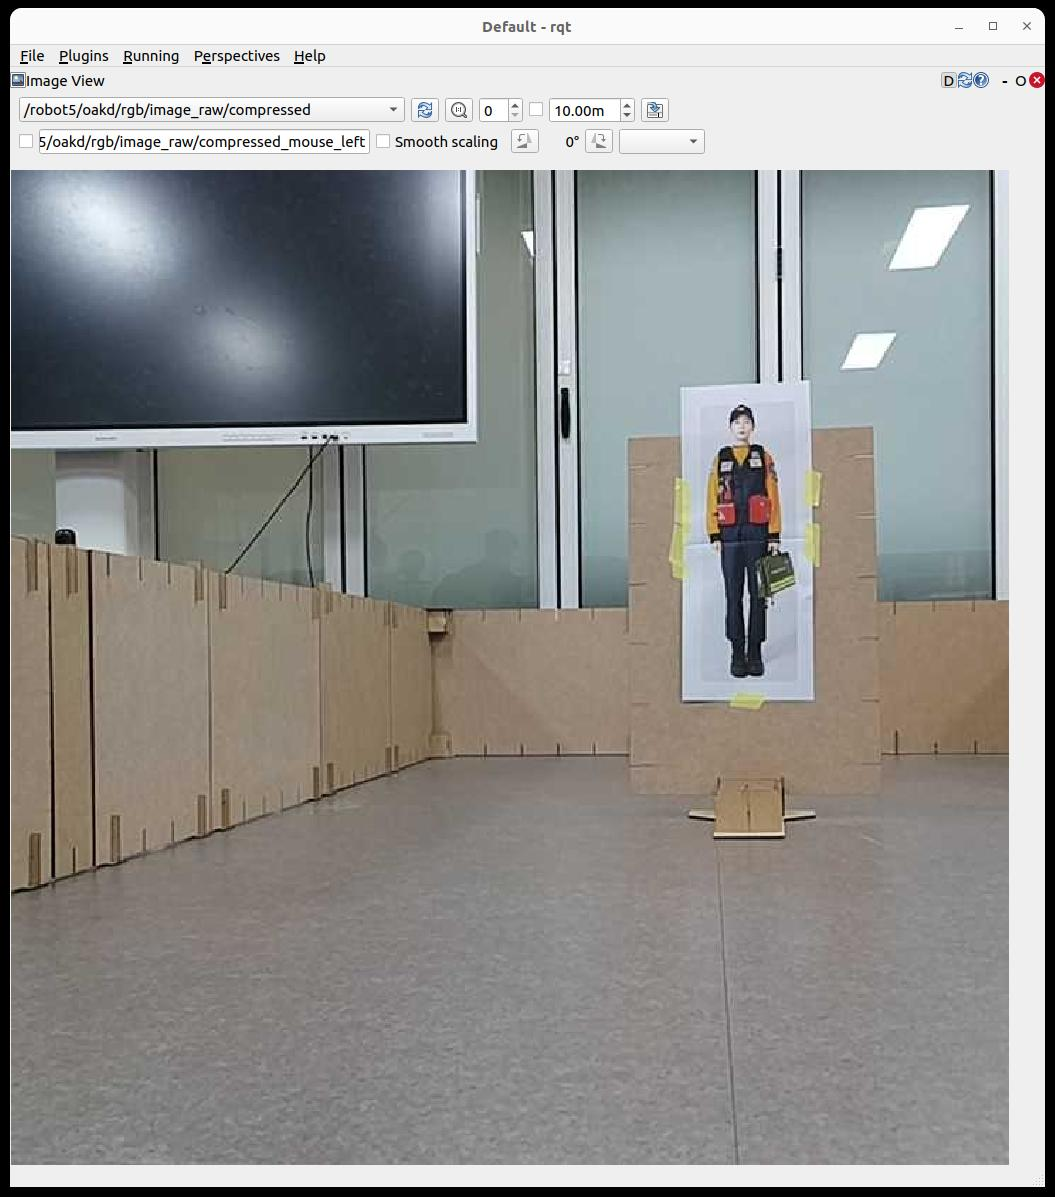Responder: (707, 404, 793, 678)
